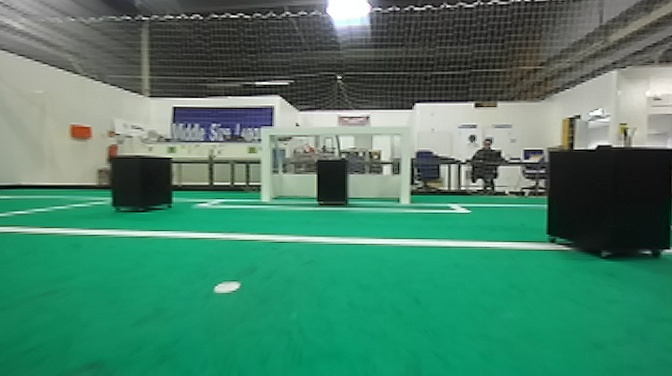goalpost: (385, 124, 422, 208), (258, 123, 274, 203)
